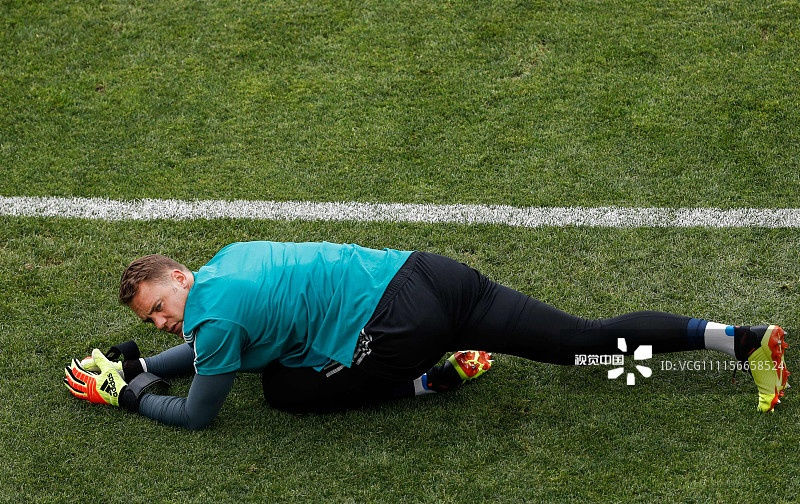falling: (89, 233, 771, 428)
